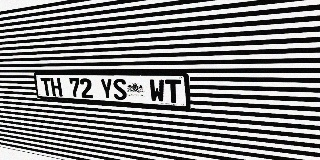plate: (33, 73, 190, 109)
